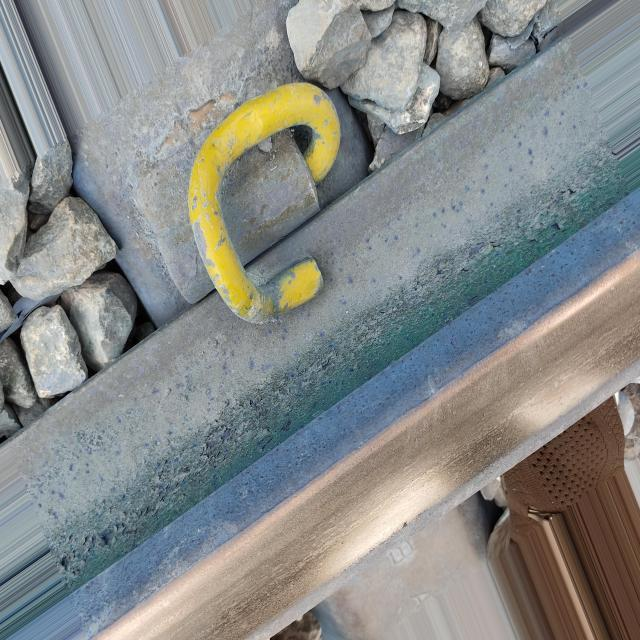Good Fasteners: (73, 42, 366, 366)
